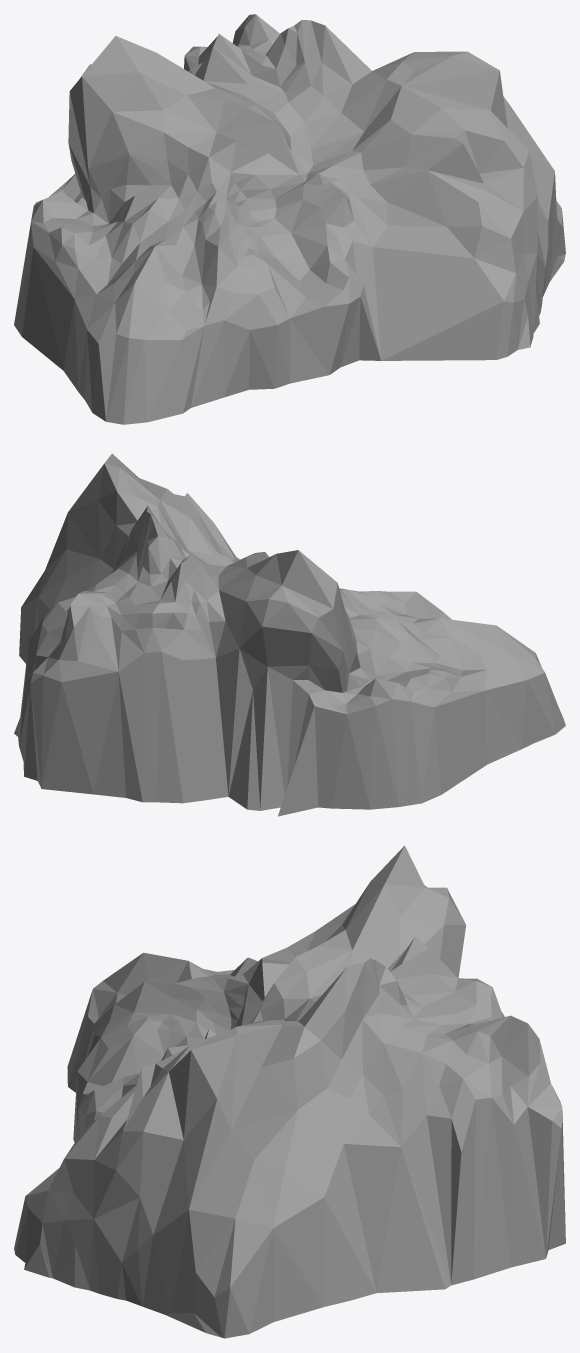
File: mountains_004.glb
3 renders of one model, top to bottom at view 1: azimuth 30°, elevation 25°; view 2: azimuth 150°, elevation 25°; view 3: azimuth 270°, elevation 25°, orthographic. The views are drawn at different scales.
Parts seen in each view (by area): view 1: mountains_004; view 2: mountains_004; view 3: mountains_004.
Boxes of the visible parts, x1,y1,x2,y2 form: mountains_004: [14, 14, 565, 424]; mountains_004: [14, 453, 565, 816]; mountains_004: [14, 845, 565, 1338].
Size of the model in its own units: 69.03 by 31.82 by 55.65.
1 material, 1 textured.
